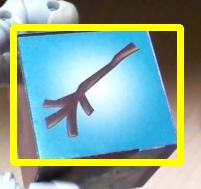Blue4: (13, 27, 180, 162)
